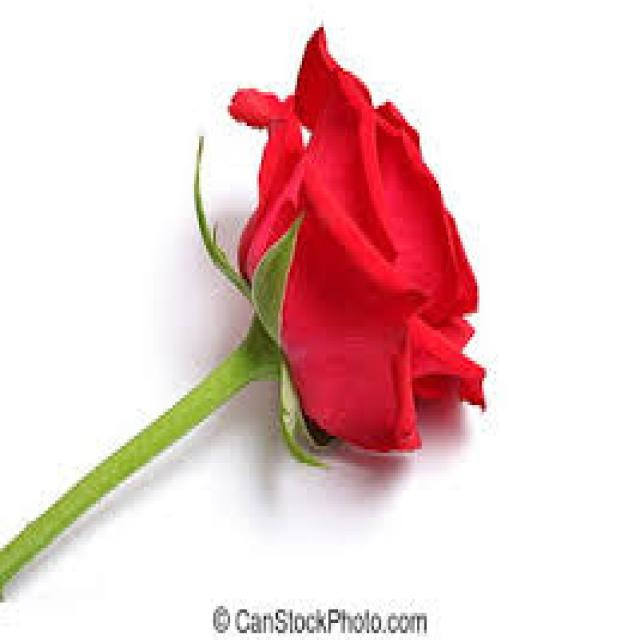rose: (174, 23, 502, 503)
